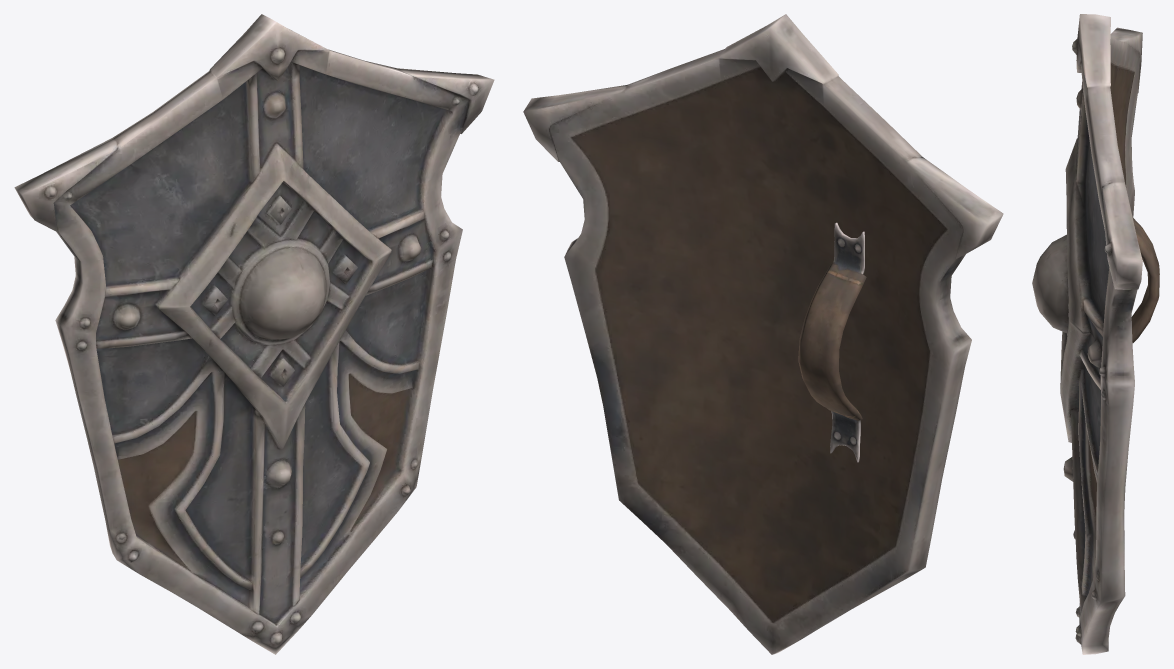
3 renders of one model, left to right at view 1: azimuth 30°, elevation 25°; view 2: azimuth 150°, elevation 25°; view 3: azimuth 270°, elevation 25°, orthographic.
Parts seen in each view (by area): view 1: SM_Kite_Steel_1H_01_LOD0; view 2: SM_Kite_Steel_1H_01_LOD0; view 3: SM_Kite_Steel_1H_01_LOD0.
Boxes of the visible parts, box(x1,y1,x2,y2) form: SM_Kite_Steel_1H_01_LOD0: box(14, 14, 494, 654); SM_Kite_Steel_1H_01_LOD0: box(523, 14, 1003, 654); SM_Kite_Steel_1H_01_LOD0: box(1032, 14, 1159, 654).
Bounding box in the file's own units: 0.8067 × 1.04 × 0.187.
1 material, 1 textured.
